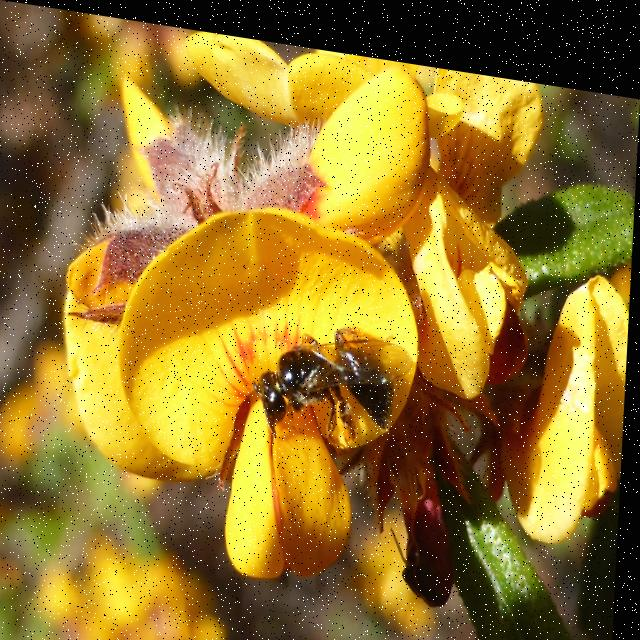Braunsapis: (243, 291, 424, 469)
